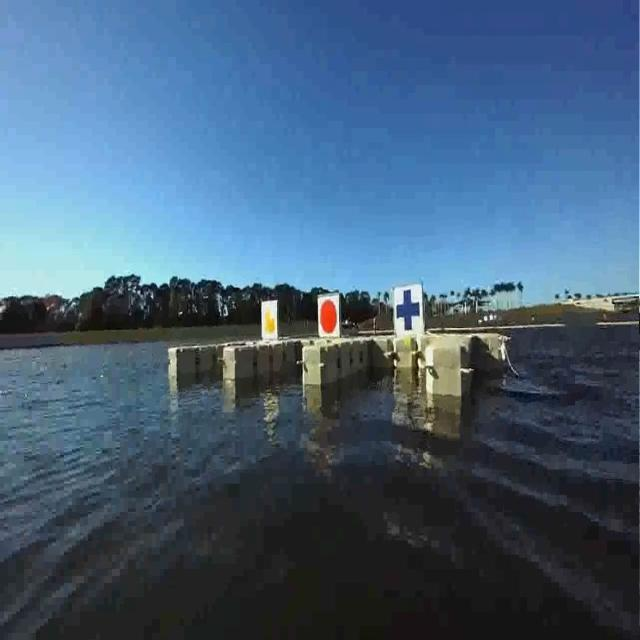blue-cross: (392, 288, 426, 330)
red-dot: (316, 298, 344, 334)
yellow-duck: (266, 306, 277, 328)
